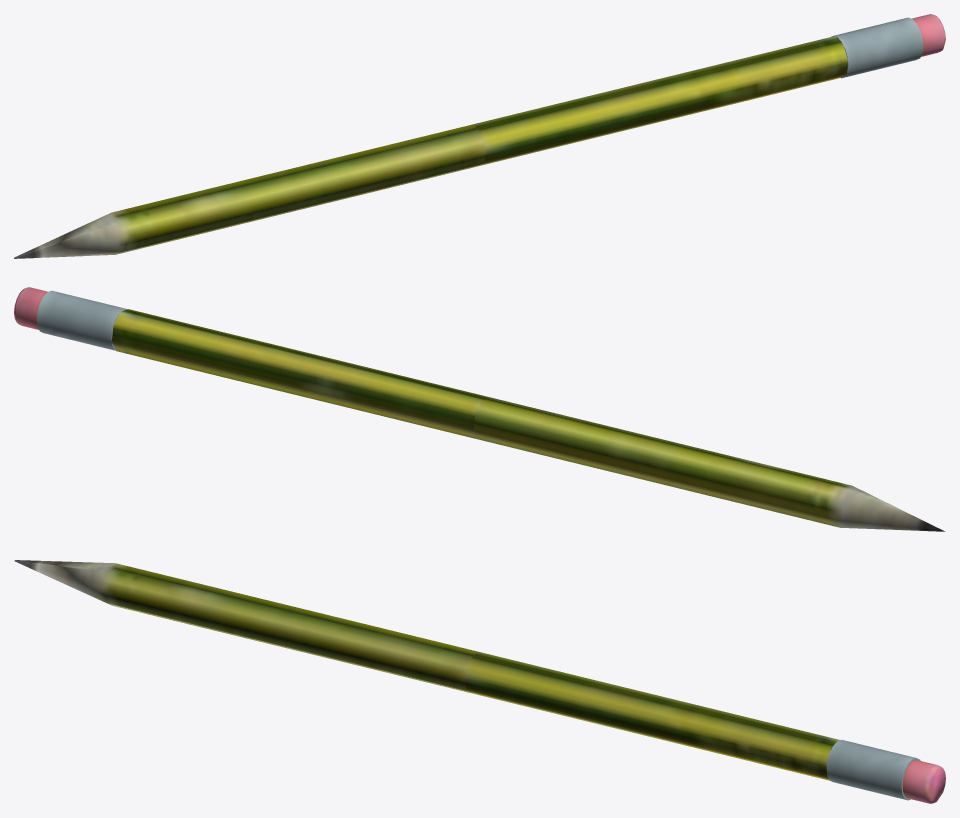
File: ph_pencil_new_a.glb
3 views of the same model, one above another, from view 1: azimuth 30°, elevation 25°; view 2: azimuth 150°, elevation 25°; view 3: azimuth 330°, elevation 25° (orthographic).
Parts seen in each view (by area): view 1: stationery_supplies_pencil_new_a; view 2: stationery_supplies_pencil_new_a; view 3: stationery_supplies_pencil_new_a.
Boxes of the visible parts, x1=… form: stationery_supplies_pencil_new_a: x1=14, y1=14, x2=945, y2=258; stationery_supplies_pencil_new_a: x1=14, y1=287, x2=945, y2=531; stationery_supplies_pencil_new_a: x1=14, y1=560, x2=945, y2=803.
Bounding box in the file's own units: 0.1939 × 0.00792 × 0.00792.
Materials: 1 (1 with a texture image).
